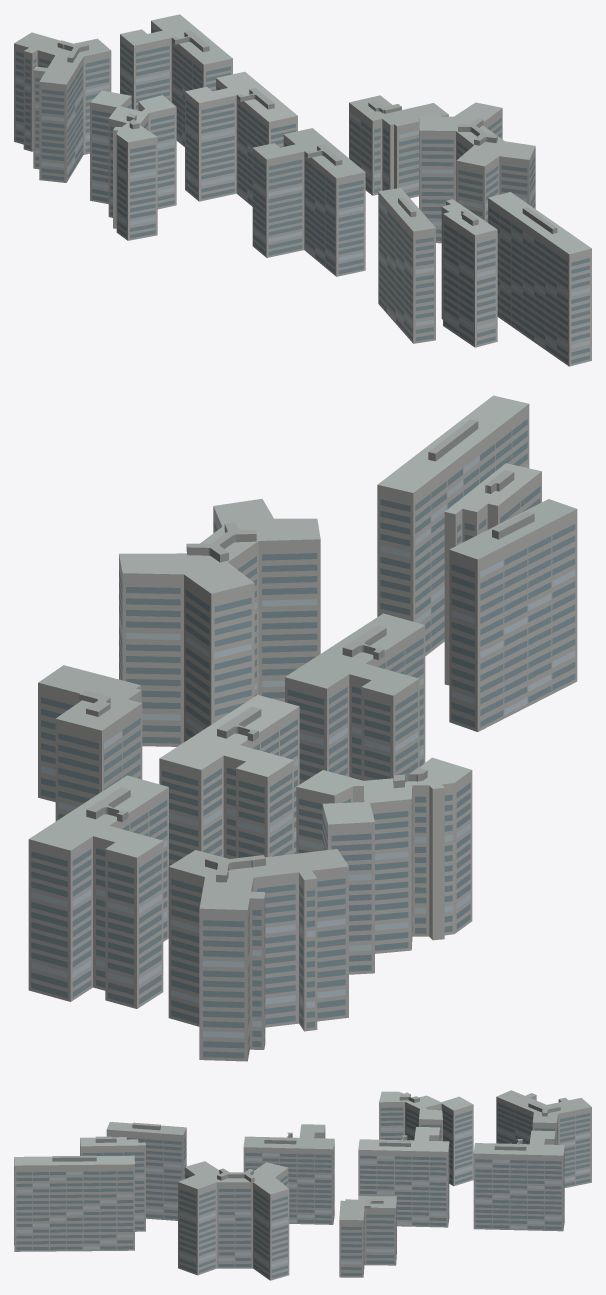
File: apt-a12289501.glb
3 renders of one model, top to bottom at view 1: azimuth 30°, elevation 25°; view 2: azimuth 150°, elevation 25°; view 3: azimuth 270°, elevation 25°, orthographic. The views are drawn at different scales.
Visible parts, largest first — view 1: apt-a12289501; view 2: apt-a12289501; view 3: apt-a12289501.
Part boxes in pixels (x1,y1,x2,y2): apt-a12289501: [14, 14, 591, 366]; apt-a12289501: [28, 395, 577, 1061]; apt-a12289501: [14, 1090, 591, 1280].
Bounding box in the file's own units: 131 × 47.81 × 278.
